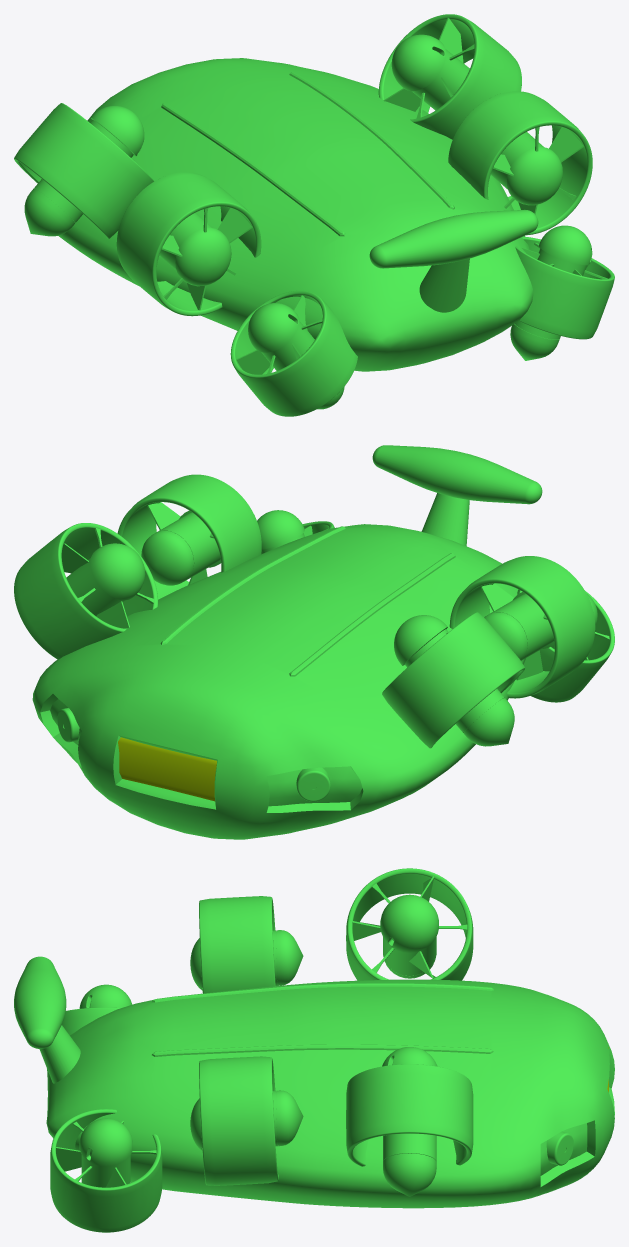
The model's file is drone.glb.
The picture shows the model from 3 angles, top to bottom: view 1: azimuth 30°, elevation 25°; view 2: azimuth 150°, elevation 25°; view 3: azimuth 270°, elevation 25°; orthographic projection.
Parts seen in each view (by area): view 1: Model, Lm, Rf, Rm, Lb; view 2: Model, Rf, Lm, Rm; view 3: Model, Lf, Rb.
Part boxes in pixels (box(x1,y1,x2,y2)): Model: box(14, 14, 614, 416); Lm: box(161, 207, 252, 310); Rf: box(383, 17, 463, 111); Rm: box(493, 127, 583, 214); Lb: box(236, 295, 307, 374); Model: box(14, 445, 614, 839); Rf: box(61, 543, 129, 628); Lm: box(481, 583, 547, 680); Rm: box(147, 502, 213, 585); Model: box(14, 868, 614, 1232); Lf: box(352, 876, 435, 978); Rb: box(56, 1121, 126, 1187).
Bounding box in the file's own units: 0.1039 × 0.0446 × 0.1124.
